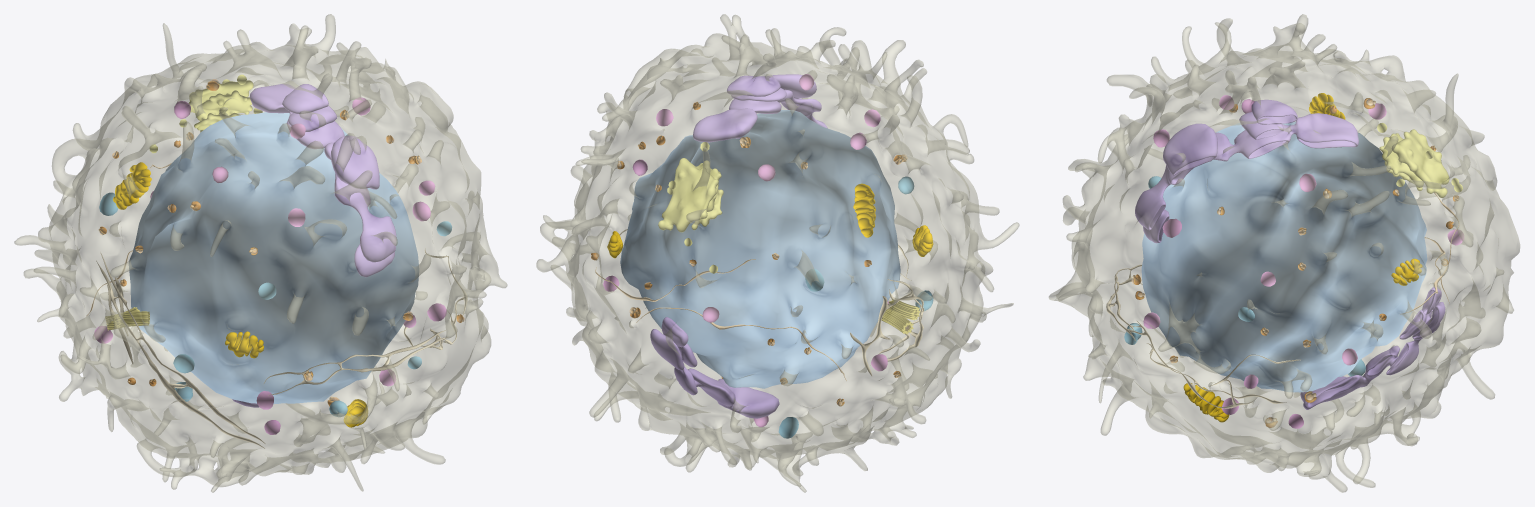
3 renders of one model, left to right at view 1: azimuth 30°, elevation 25°; view 2: azimuth 150°, elevation 25°; view 3: azimuth 270°, elevation 25°, orthographic. The views are drawn at different scales.
Visible parts, largest first — view 1: Lymphocyte_Body, Lymphocyte_Nucleus, Lymphocyte_ER_1, Lymphocyte_Microfilaments_1, Lymphocyte_Golgi_Apparatus, Lymphocyte_Microfilaments_2, Lymphocyte_Mitochondria_4, Lymphocyte_Mitochondria_1; view 2: Lymphocyte_Body, Lymphocyte_Nucleus, Lymphocyte_ER_1, Lymphocyte_ER_2, Lymphocyte_Golgi_Apparatus, Lymphocyte_Microfilaments_1, Lymphocyte_Mitochondria_4; view 3: Lymphocyte_Body, Lymphocyte_Nucleus, Lymphocyte_ER_1, Lymphocyte_ER_2, Lymphocyte_Golgi_Apparatus, Lymphocyte_Microfilaments_2, Lymphocyte_Mitochondria_3, Lymphocyte_Mitochondria_2, Lymphocyte_Mitochondria_4.
Part boxes in pixels (x1,y1,x2,y2): Lymphocyte_Body: [14, 14, 507, 492]; Lymphocyte_Nucleus: [129, 112, 418, 404]; Lymphocyte_ER_1: [250, 84, 396, 277]; Lymphocyte_Microfilaments_1: [96, 252, 265, 448]; Lymphocyte_Golgi_Apparatus: [188, 80, 253, 132]; Lymphocyte_Microfilaments_2: [263, 248, 467, 395]; Lymphocyte_Mitochondria_4: [113, 162, 151, 209]; Lymphocyte_Mitochondria_1: [225, 331, 263, 358]; Lymphocyte_Body: [536, 14, 1019, 492]; Lymphocyte_Nucleus: [620, 110, 900, 388]; Lymphocyte_ER_1: [693, 74, 827, 142]; Lymphocyte_ER_2: [650, 317, 779, 418]; Lymphocyte_Golgi_Apparatus: [658, 158, 723, 232]; Lymphocyte_Microfilaments_1: [850, 279, 924, 375]; Lymphocyte_Mitochondria_4: [853, 183, 875, 237]; Lymphocyte_Body: [1048, 14, 1520, 492]; Lymphocyte_Nucleus: [1141, 121, 1427, 392]; Lymphocyte_ER_1: [1135, 99, 1358, 243]; Lymphocyte_ER_2: [1300, 287, 1445, 409]; Lymphocyte_Golgi_Apparatus: [1379, 129, 1449, 197]; Lymphocyte_Microfilaments_2: [1106, 264, 1300, 408]; Lymphocyte_Mitochondria_3: [1183, 383, 1229, 422]; Lymphocyte_Mitochondria_2: [1391, 258, 1422, 285]; Lymphocyte_Mitochondria_4: [1309, 93, 1345, 119].
Size of what is drawn, in the model's own units: 0.5 by 0.4878 by 0.4808.
Materials: 12 (1 with a texture image).
